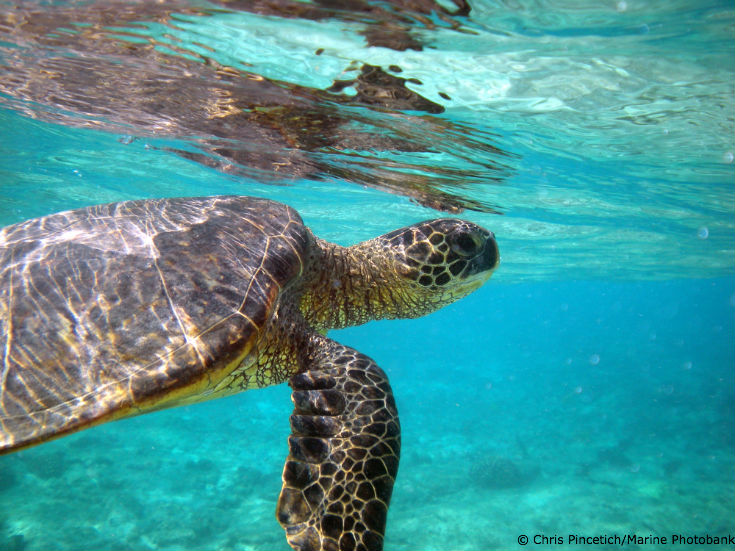trutle: (1, 203, 508, 526)
